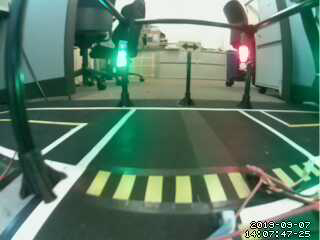Left_Right_sign: (176, 37, 210, 52)
Traffic_light_green: (116, 39, 129, 68)
Traffic_light_red: (239, 45, 249, 72)
